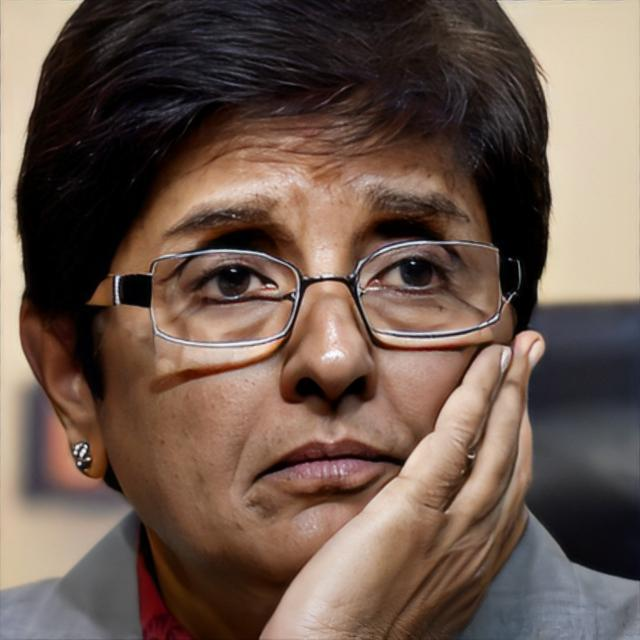sad: (103, 78, 514, 599)
